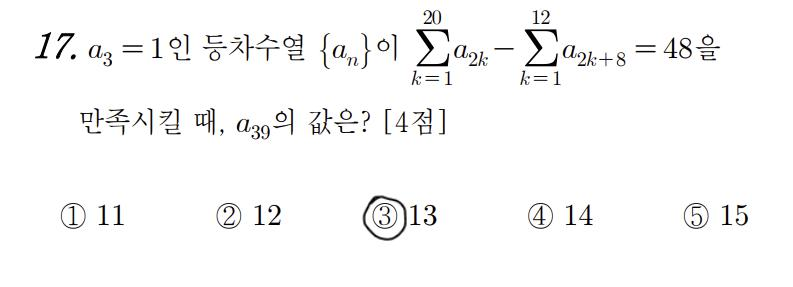1: (361, 193, 408, 247)
paper: (679, 198, 713, 233), (522, 200, 556, 235), (369, 197, 403, 232), (211, 200, 245, 235), (56, 197, 90, 232)
